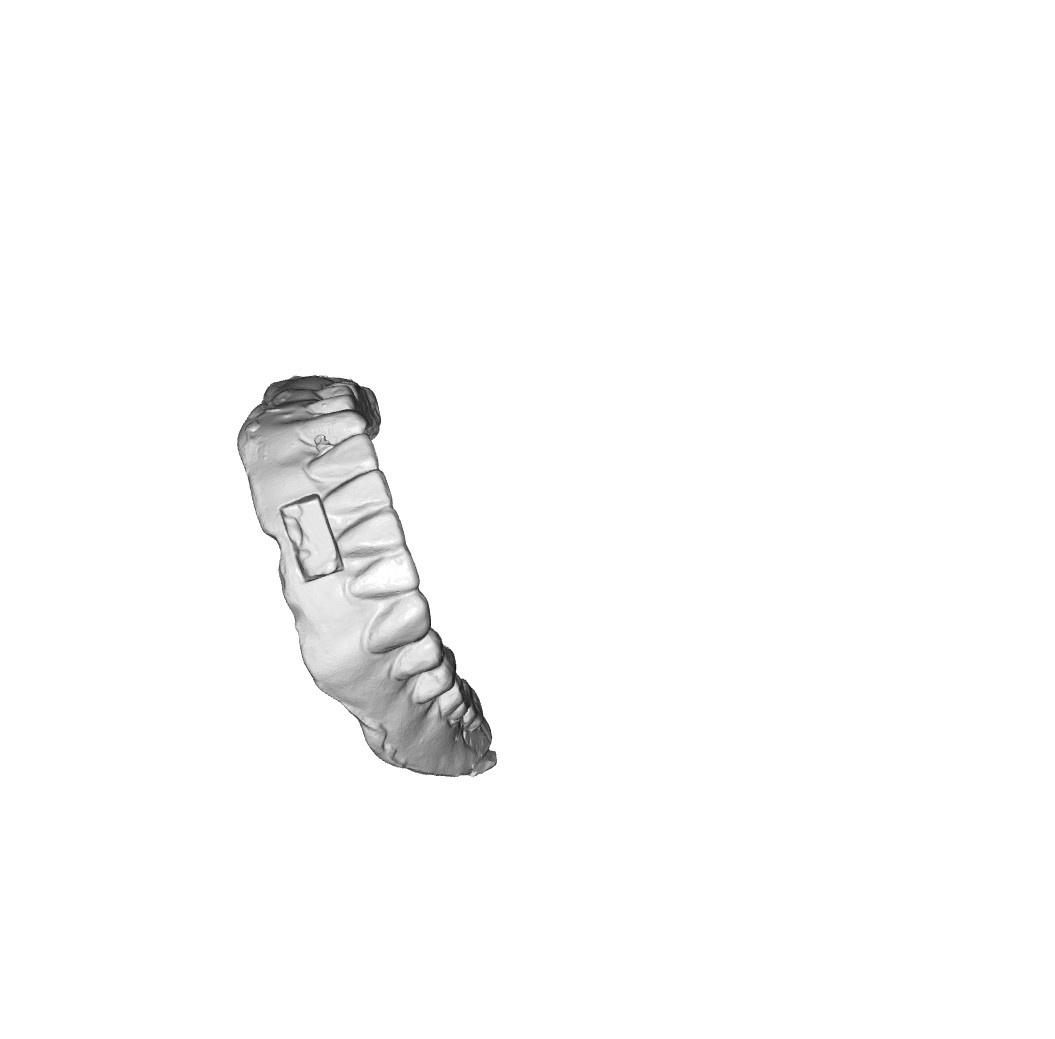canine: (366, 597, 433, 649), (293, 415, 373, 447)
incisor: (321, 471, 399, 523), (310, 435, 384, 486), (346, 555, 427, 599), (332, 517, 410, 557)
